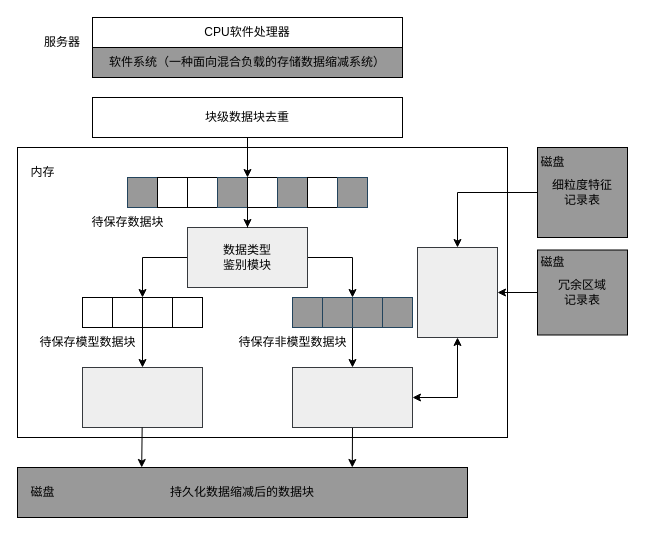
Some shapes in this 645 by 535 pixel diagram are drawn without their labels. Here are the shapes that lost their labels. From the top down, the centre of each, then its label:
At pixel 457 292: "数据缓存".
At pixel 142 397: "模型数据 处理模块".
At pixel 352 397: "非模型数据 处理模块".
